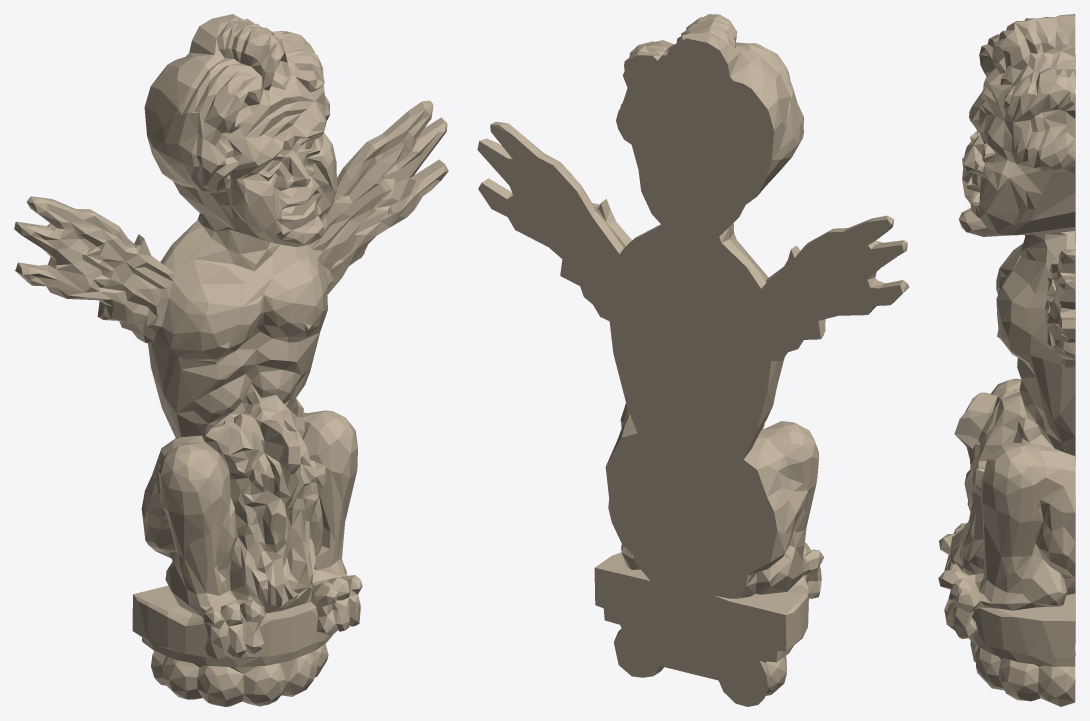
File: BurntBoy_01.glb
3 renders of one model, left to right at view 1: azimuth 30°, elevation 25°; view 2: azimuth 150°, elevation 25°; view 3: azimuth 270°, elevation 25°, orthographic.
Parts seen in each view (by area): view 1: BurntBoy_01; view 2: BurntBoy_01; view 3: BurntBoy_01.
Boxes of the visible parts, x1,y1,x2,y2 form: BurntBoy_01: [14, 14, 448, 706]; BurntBoy_01: [477, 14, 909, 706]; BurntBoy_01: [938, 14, 1075, 706].
Size of the model in its own units: 1.59 by 2.34 by 0.4442.
